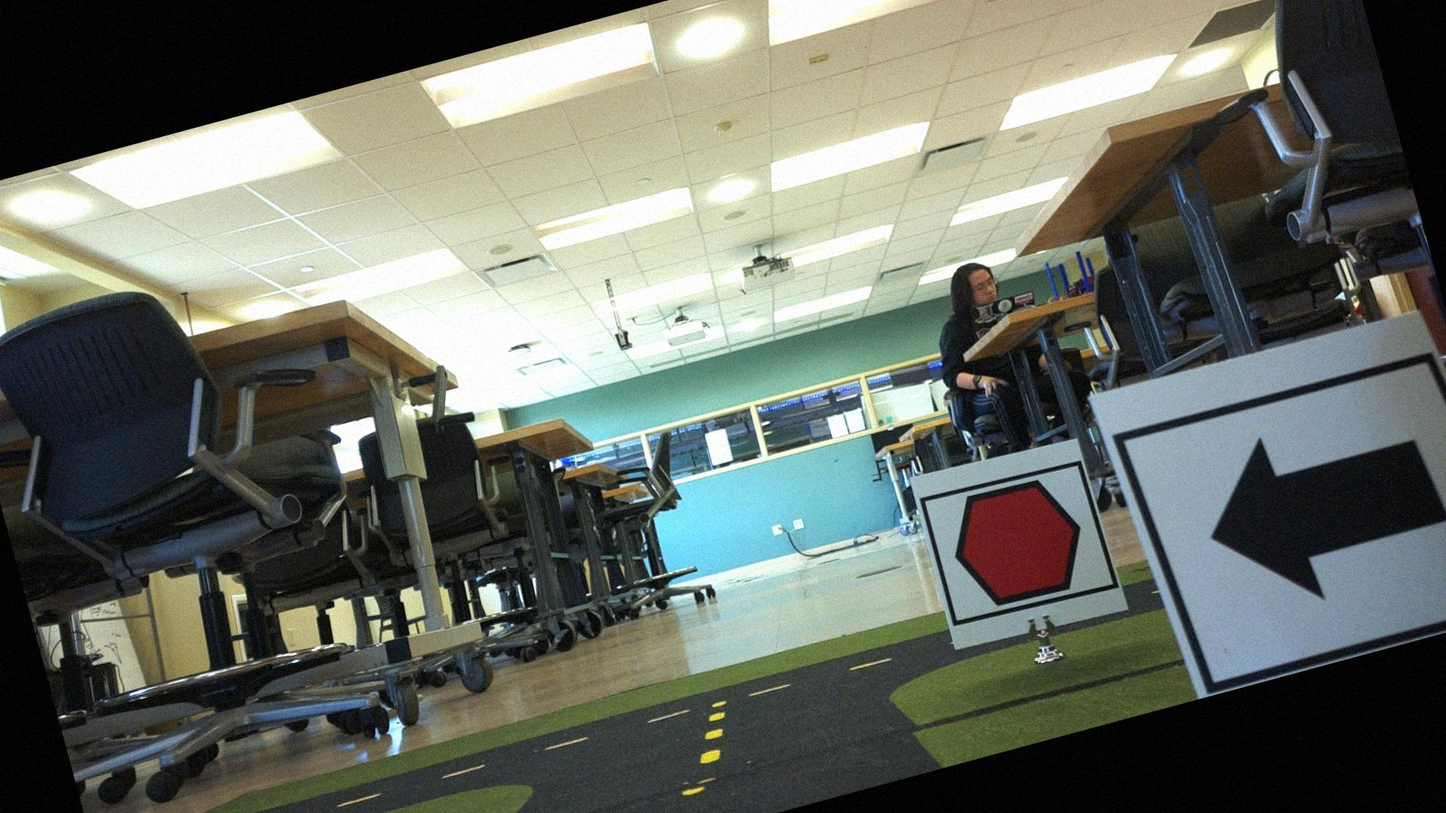stop: (920, 462, 1113, 626)
turnright: (1128, 354, 1445, 695)
yellowline: (645, 709, 751, 812)
